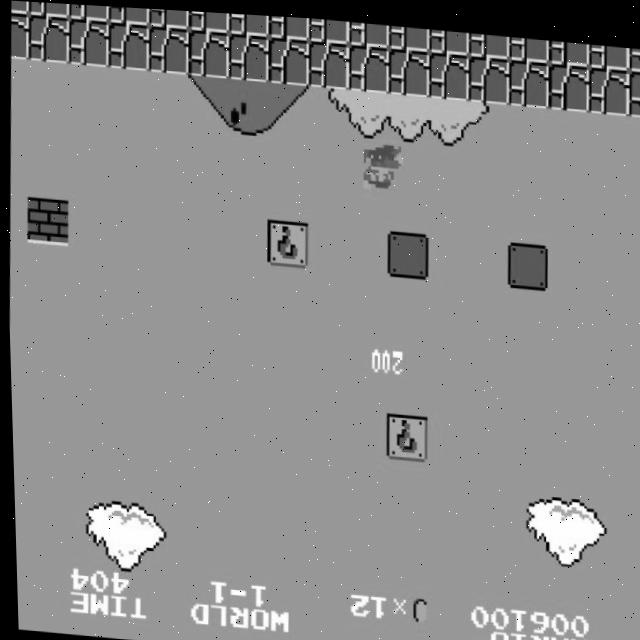1- brick_block: (24, 196, 68, 245)
11- little_mario: (360, 138, 406, 189)
13- mystery_block: (264, 216, 308, 265), (382, 408, 426, 456)
17- undestructible_block: (586, 59, 630, 108), (546, 56, 590, 105), (506, 53, 550, 102), (466, 49, 510, 98), (426, 46, 470, 95), (386, 43, 430, 92), (346, 40, 390, 89), (306, 36, 350, 85), (266, 33, 310, 82), (226, 30, 270, 79), (186, 27, 230, 76), (146, 23, 190, 72), (106, 20, 150, 69), (66, 17, 110, 66), (26, 14, 70, 63), (587, 37, 630, 63), (547, 33, 590, 59), (507, 30, 550, 56), (467, 27, 510, 53), (427, 24, 470, 50), (347, 17, 390, 43), (387, 21, 430, 46), (307, 14, 350, 39), (267, 12, 310, 36), (9, 12, 30, 60), (227, 11, 269, 34), (187, 9, 229, 30), (147, 7, 189, 27), (107, 5, 149, 23), (67, 3, 109, 20), (27, 1, 69, 17), (627, 62, 640, 110), (628, 39, 640, 64), (10, 0, 29, 14)
3- empty_block: (504, 235, 548, 284), (384, 226, 428, 275)
